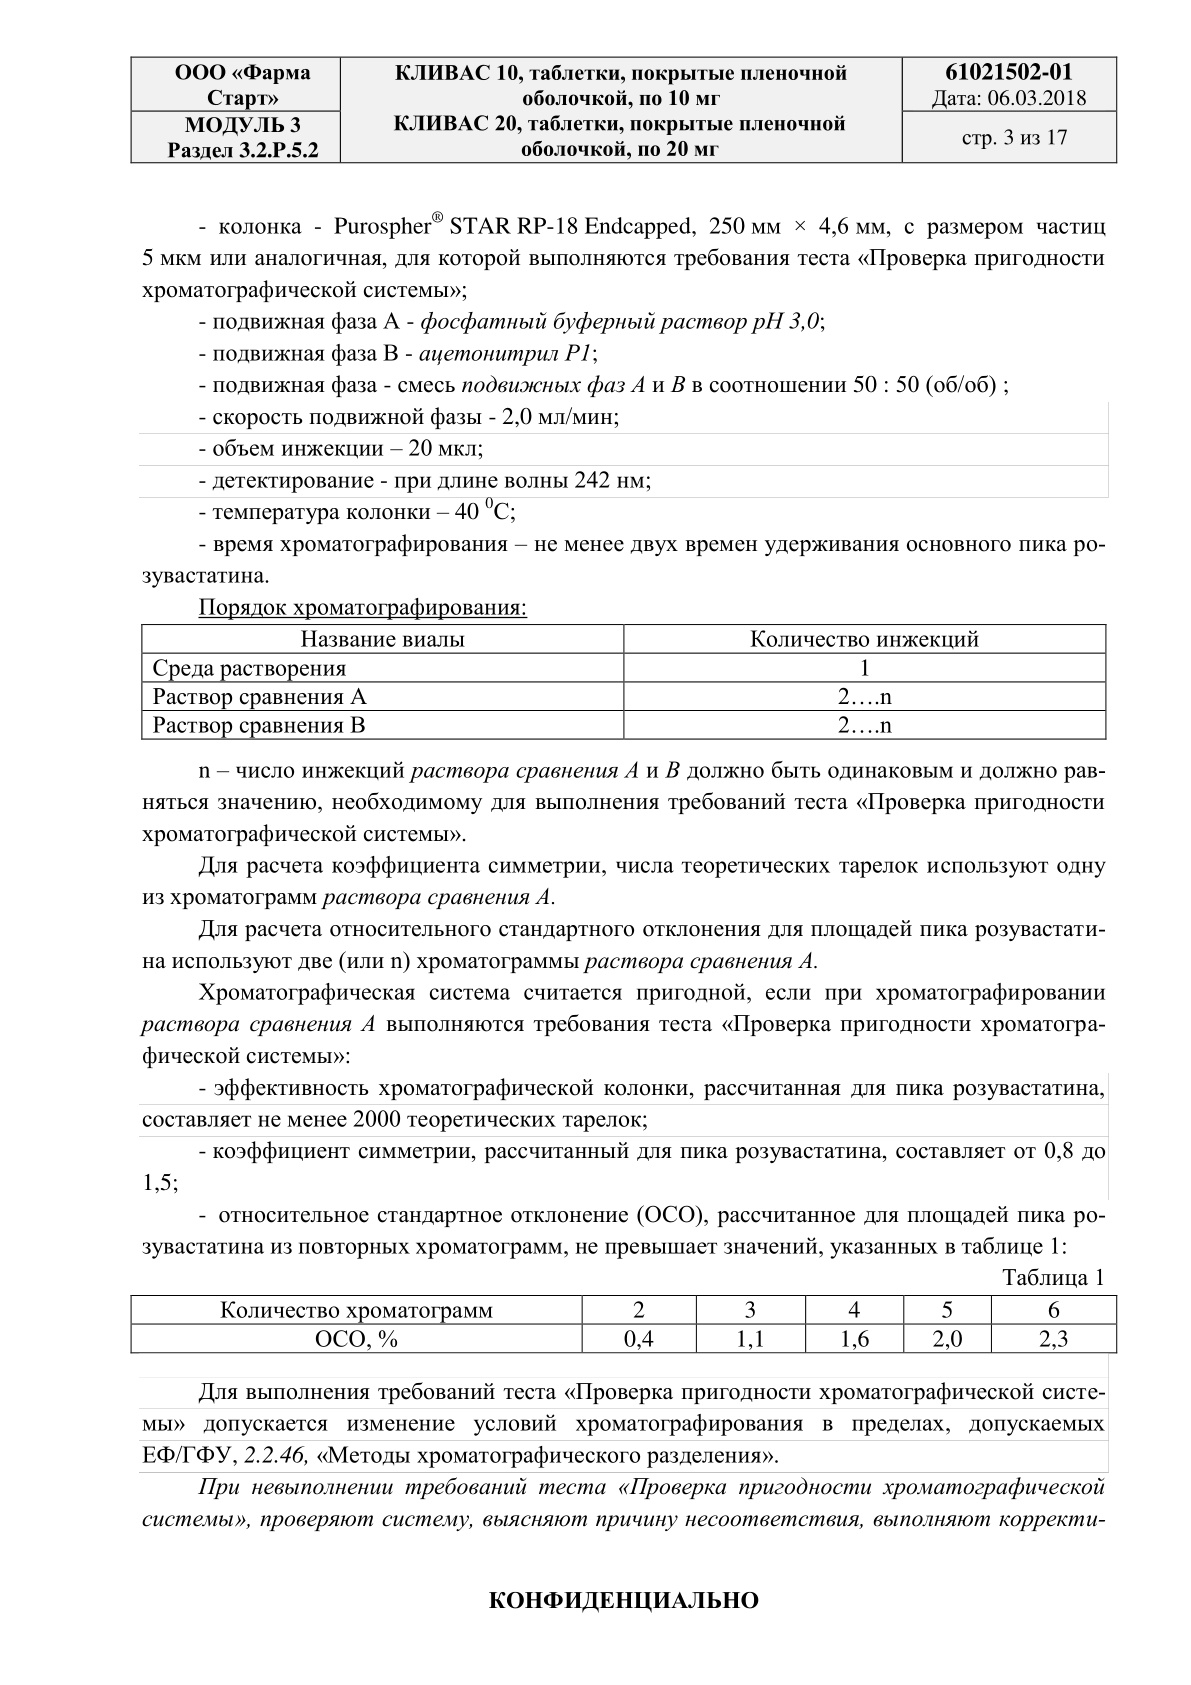full_lined: (140, 624, 1107, 740), (130, 1294, 1118, 1354)
merged_cells: (130, 55, 1118, 164)
